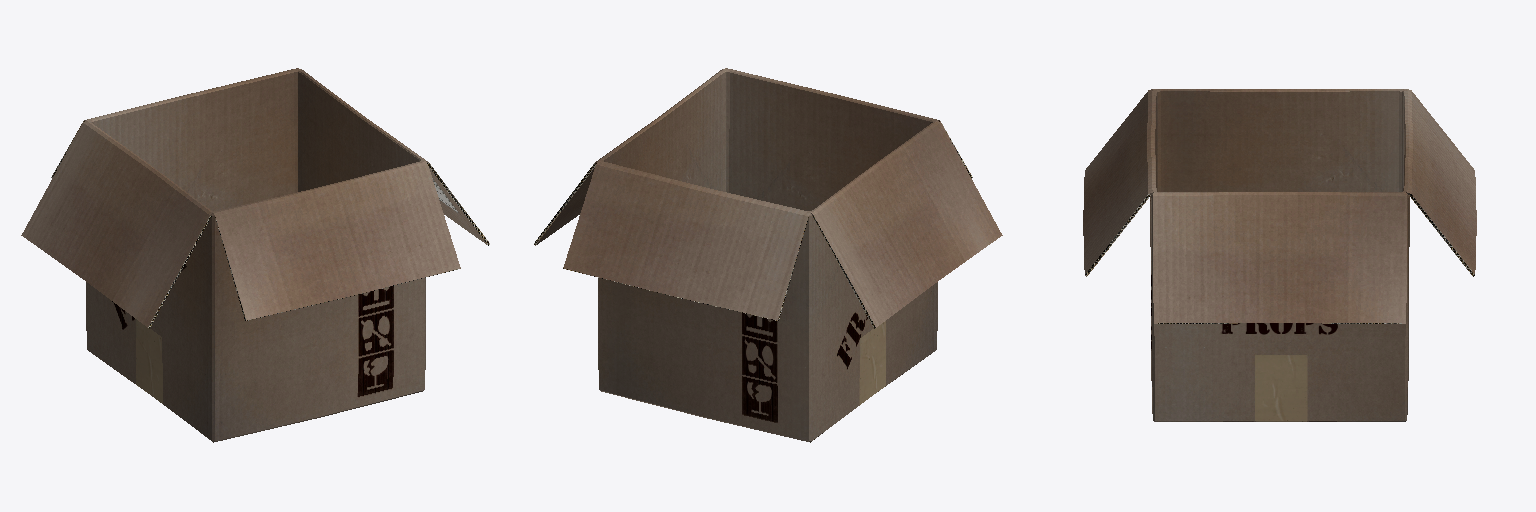
The picture shows the model from 3 angles: view 1: azimuth 30°, elevation 25°; view 2: azimuth 150°, elevation 25°; view 3: azimuth 270°, elevation 25°; orthographic projection.
Visible parts, largest first — view 1: g0; view 2: g0; view 3: g0.
Part boxes in pixels (x1,y1,x2,y2): g0: (21, 68, 489, 442); g0: (534, 68, 1002, 442); g0: (1083, 89, 1476, 421).
Bounding box in the file's own units: 0.4975 × 0.3204 × 0.4948.
1 materials, 1 textured.